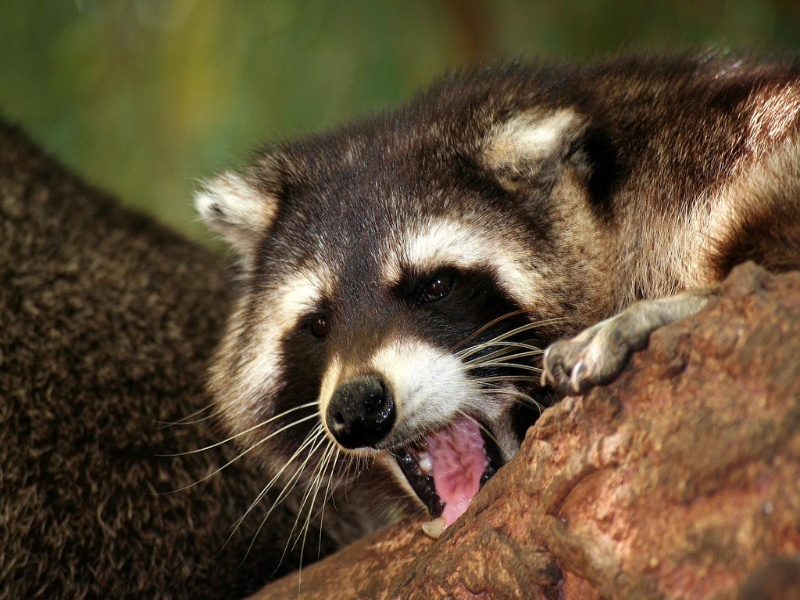raccoon: (187, 53, 800, 561)
